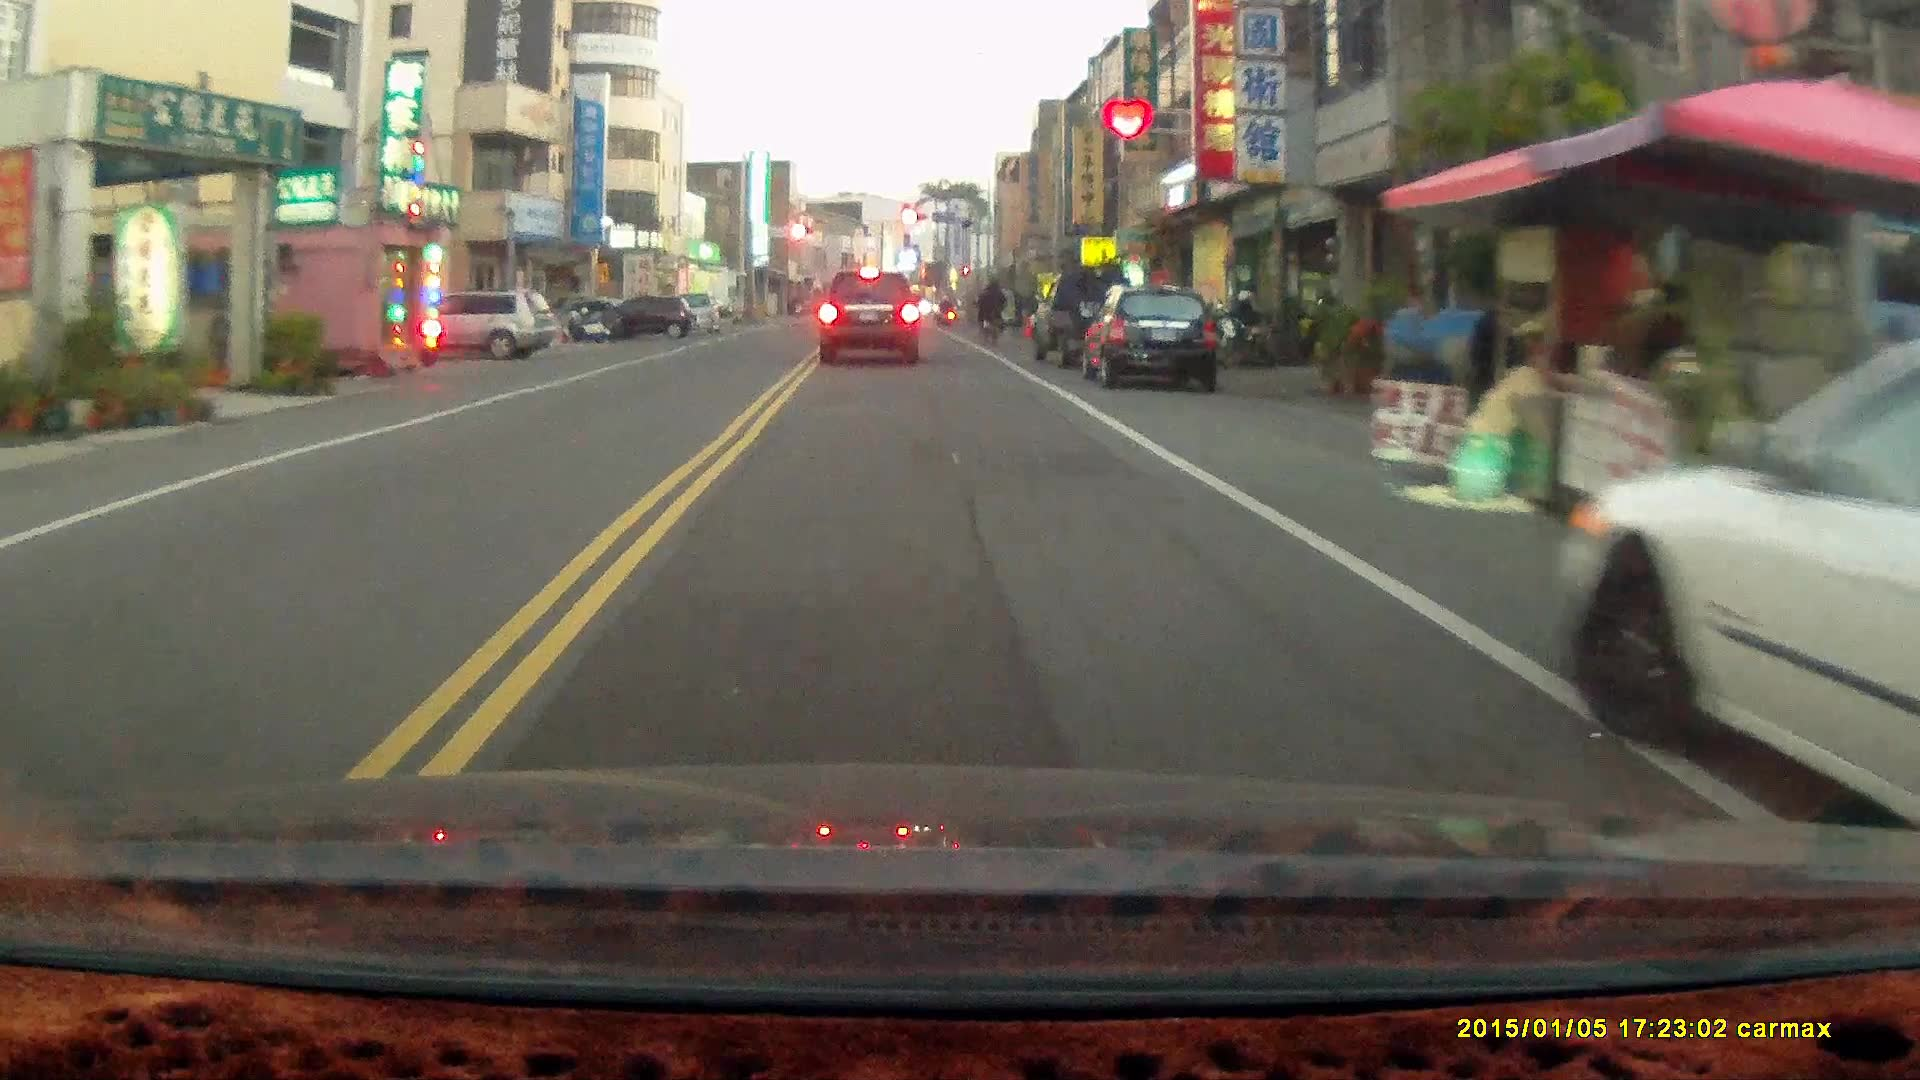rider: (976, 276, 1006, 349)
vehicle: (1573, 297, 1920, 829), (1084, 282, 1225, 393), (382, 291, 557, 364), (817, 268, 923, 367), (581, 294, 697, 340)
